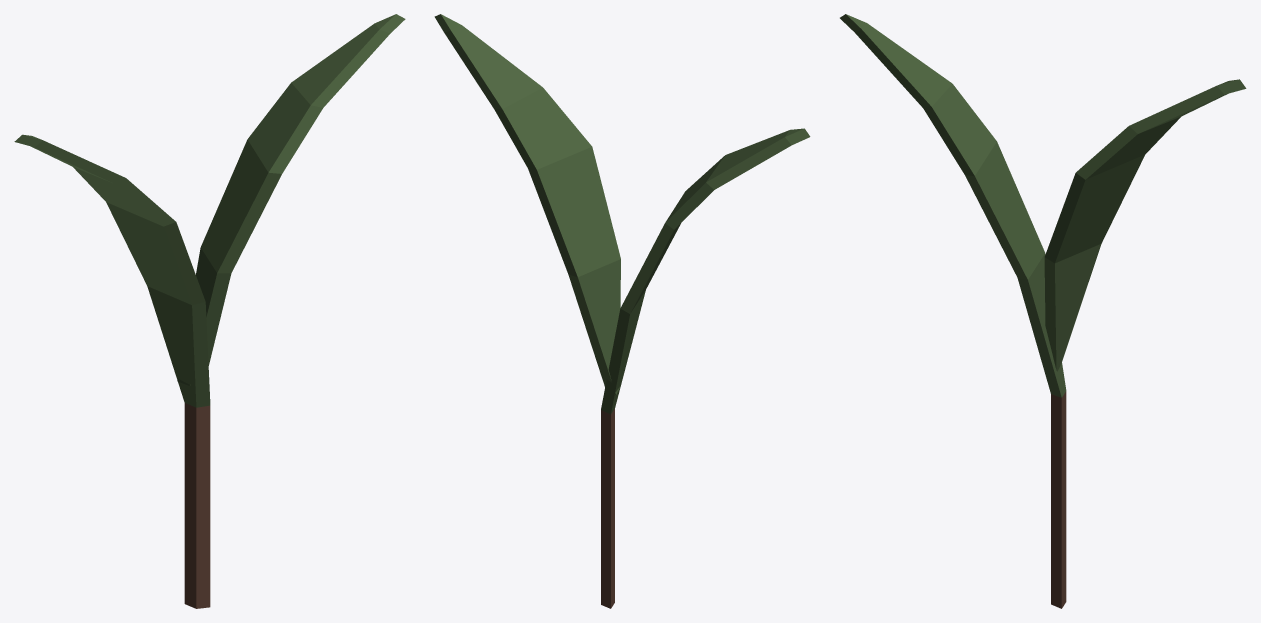
Rendered from bushberries_1.gltf.
The picture shows the model from 3 angles, left to right: view 1: azimuth 30°, elevation 25°; view 2: azimuth 150°, elevation 25°; view 3: azimuth 330°, elevation 25°; orthographic projection. The views are drawn at different scales.
Visible parts, largest first — view 1: bushberries_1; view 2: bushberries_1; view 3: bushberries_1.
Part boxes in pixels (bbox=[...]): bushberries_1: bbox=[14, 14, 405, 608]; bushberries_1: bbox=[434, 14, 810, 608]; bushberries_1: bbox=[840, 14, 1246, 608].
Bounding box in the file's own units: 0.2595 × 0.3529 × 0.0501.
Materials: 1 (1 with a texture image).
